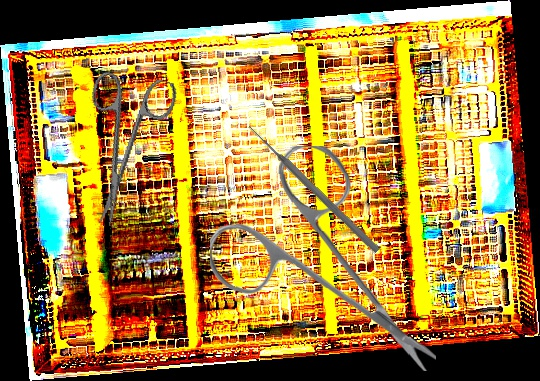Iris Scissors: (208, 144, 436, 375), (61, 64, 180, 234)
Pusher: (245, 122, 382, 255)
